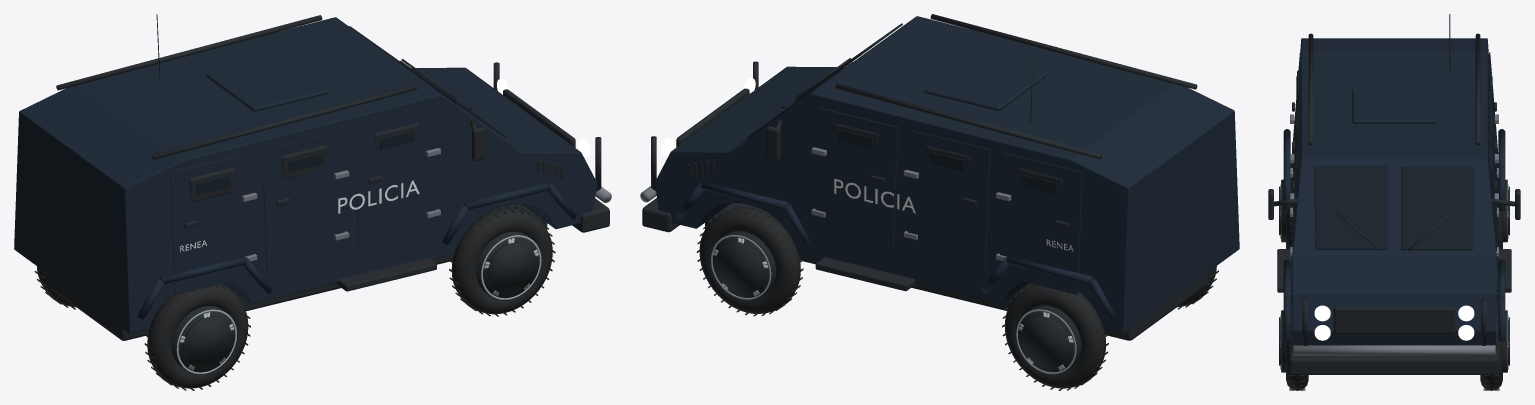
File: renea_armored_van.glb
The picture shows the model from 3 angles, left to right: view 1: azimuth 30°, elevation 25°; view 2: azimuth 150°, elevation 25°; view 3: azimuth 270°, elevation 25°; orthographic projection. The views are drawn at different scales.
Parts seen in each view (by area): view 1: Batch_RENEA dark navy armor, Batch_Graphite, Batch_Tire rubber, Batch_Tire rubber.002, Batch_Graphite.001, Batch_Graphite.003, Batch_Smoked glass, Batch_Brake rotor.004, Batch_Pearl white paint, Batch_Machined aluminium, Batch_Machined aluminium.002; view 2: Batch_RENEA dark navy armor, Batch_Graphite, Batch_Tire rubber.001, Batch_Tire rubber.003, Batch_Graphite.004, Batch_Graphite.002, Batch_Smoked glass, Batch_Brake rotor.004, Batch_Pearl white paint, Batch_Machined aluminium.003, Batch_Machined aluminium.001; view 3: Batch_RENEA dark navy armor, Batch_Smoked glass, Batch_Graphite, Batch_Brake rotor.004, Batch_Headlamp LED, Batch_Tire rubber.001, Batch_Tire rubber, Batch_Graphite.002, Batch_Graphite.001, Batch_Graphite.004, Batch_Graphite.003, Batch_Tire rubber.002.
Part boxes in pixels (bbox=[...]): Batch_RENEA dark navy armor: bbox=[14, 17, 597, 333]; Batch_Graphite: bbox=[46, 14, 609, 340]; Batch_Tire rubber: bbox=[449, 205, 555, 316]; Batch_Tire rubber.002: bbox=[144, 284, 250, 390]; Batch_Graphite.001: bbox=[476, 231, 541, 300]; Batch_Graphite.003: bbox=[172, 306, 237, 374]; Batch_Smoked glass: bbox=[196, 26, 506, 194]; Batch_Brake rotor.004: bbox=[242, 148, 611, 261]; Batch_Pearl white paint: bbox=[180, 180, 419, 252]; Batch_Machined aluminium: bbox=[481, 235, 541, 300]; Batch_Machined aluminium.002: bbox=[176, 309, 236, 374]; Batch_RENEA dark navy armor: bbox=[655, 16, 1239, 333]; Batch_Graphite: bbox=[642, 14, 1207, 340]; Batch_Tire rubber.001: bbox=[696, 205, 803, 316]; Batch_Tire rubber.003: bbox=[1002, 284, 1108, 390]; Batch_Graphite.004: bbox=[1015, 305, 1081, 374]; Batch_Graphite.002: bbox=[710, 231, 775, 300]; Batch_Smoked glass: bbox=[747, 23, 1056, 194]; Batch_Brake rotor.004: bbox=[640, 147, 1011, 260]; Batch_Pearl white paint: bbox=[834, 178, 1073, 251]; Batch_Machined aluminium.003: bbox=[1016, 309, 1076, 374]; Batch_Machined aluminium.001: bbox=[710, 235, 771, 299]; Batch_RENEA dark navy armor: bbox=[1283, 38, 1505, 352]; Batch_Smoked glass: bbox=[1296, 76, 1492, 250]; Batch_Graphite: bbox=[1268, 14, 1520, 374]; Batch_Brake rotor.004: bbox=[1290, 114, 1498, 355]; Batch_Headlamp LED: bbox=[1314, 305, 1474, 340]; Batch_Tire rubber.001: bbox=[1480, 292, 1502, 390]; Batch_Tire rubber: bbox=[1286, 292, 1308, 390]; Batch_Graphite.002: bbox=[1503, 310, 1509, 372]; Batch_Graphite.001: bbox=[1279, 310, 1285, 372]; Batch_Graphite.004: bbox=[1503, 179, 1509, 242]; Batch_Graphite.003: bbox=[1279, 179, 1285, 242]; Batch_Tire rubber.002: bbox=[1286, 163, 1291, 248].
Size of the model in its own units: 5.04 by 2.97 by 2.6.
